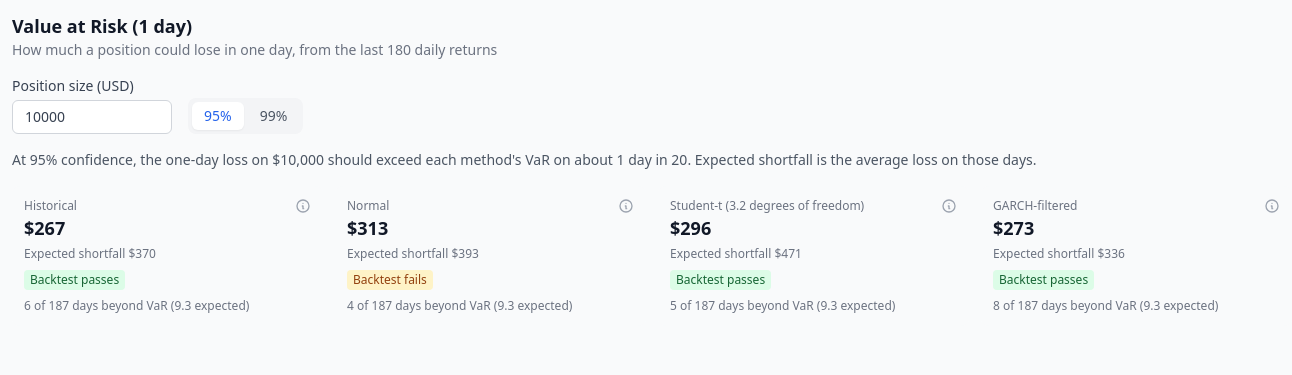
Test: ValueAtRiskPanel › switches confidence level and notes the weak 99% backtest
This screenshot has width=1292, height=375.
Click the button "99%" at (274, 116), box [248, 102, 299, 130]
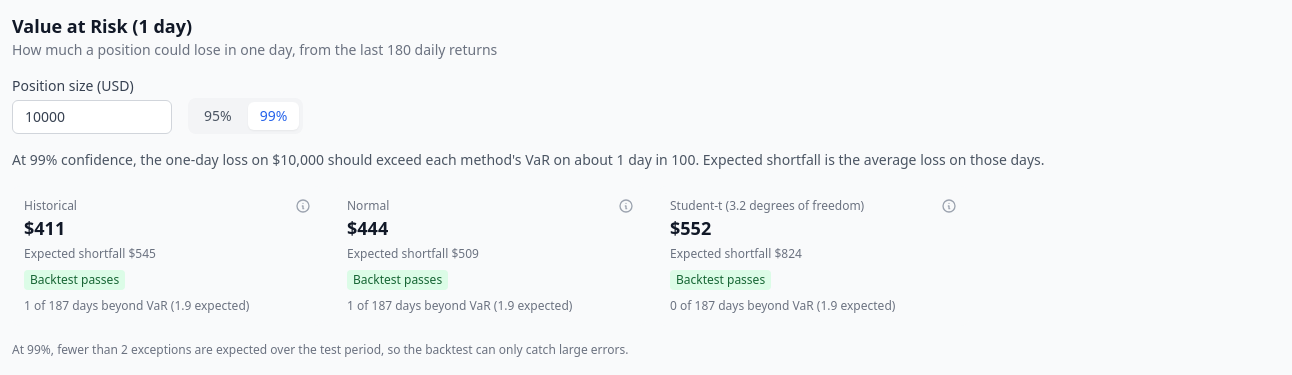
Expected: the text "$552" is shown, [670, 216, 711, 240]
Expected: the text "1 day in 100" is shown, [12, 150, 1044, 169]
Expected: the text "fewer than 2 exceptions are expected" is shown, [12, 341, 628, 358]
